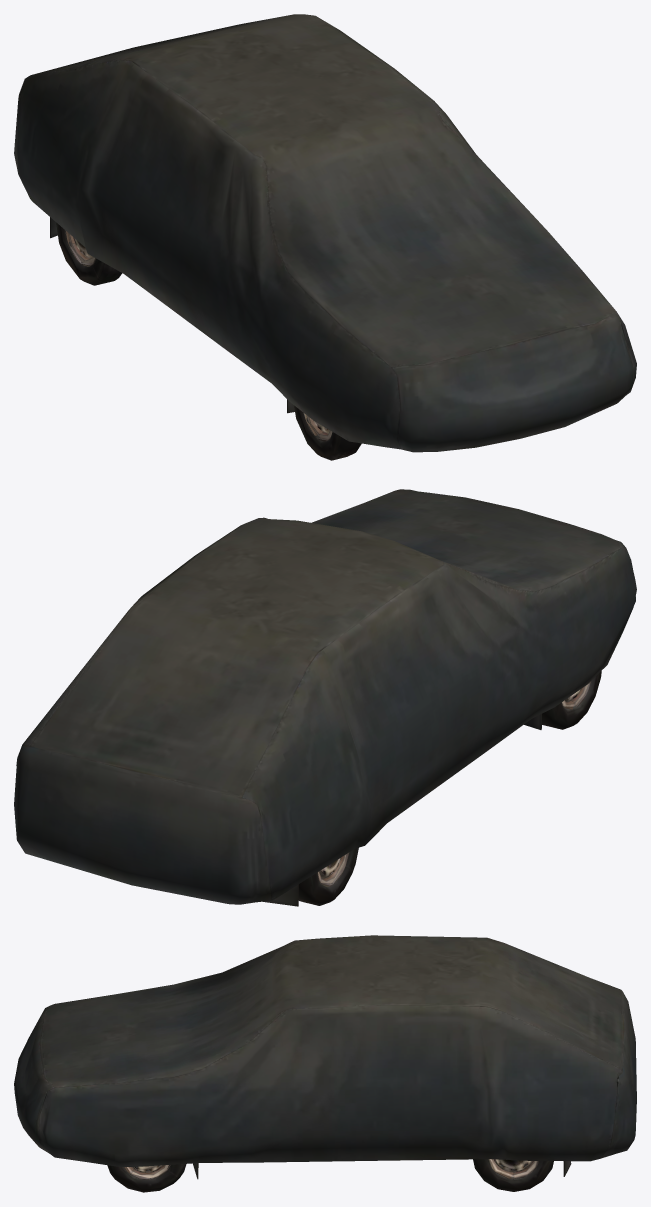
The model's file is covered_car.glb.
The picture shows the model from 3 angles, top to bottom: view 1: azimuth 30°, elevation 25°; view 2: azimuth 150°, elevation 25°; view 3: azimuth 270°, elevation 25°; orthographic projection. The views are drawn at different scales.
Visible parts, largest first — view 1: covered_car_wheel_01; view 2: covered_car_wheel_01; view 3: covered_car_wheel_01.
Boxes of the visible parts, <box> form: covered_car_wheel_01: <box>14,14,636,460</box>; covered_car_wheel_01: <box>14,489,636,906</box>; covered_car_wheel_01: <box>14,935,636,1192</box>.
Size of the model in its own units: 1.79 by 1.41 by 4.38.
1 material, 1 textured.
